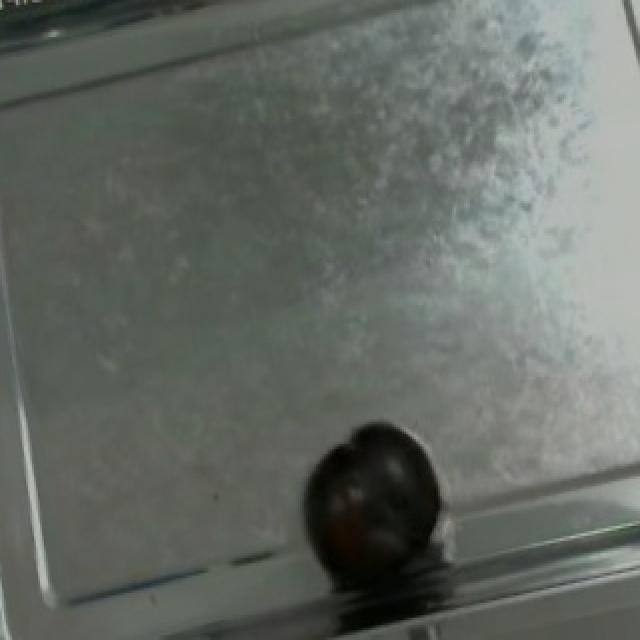Fruit: (294, 409, 456, 598)
